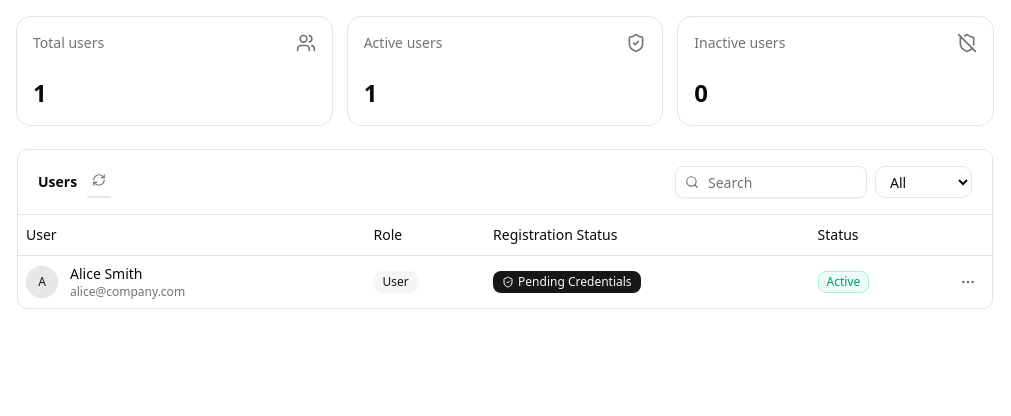
it: UsersTable — pending-credentials row actions › hides Edit, Disable/Enable and Super Admin toggle for a user still completing registration
Click the button named "Actions for Alice": (968, 282) [952, 266, 984, 298]
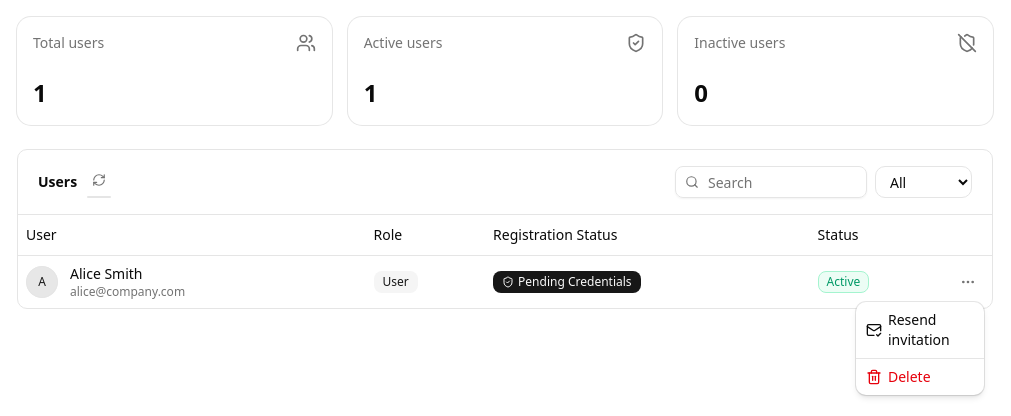
Expected: the menu item "Resend invitation" is shown, [866, 310, 950, 349]
Expected: the menu item "Delete" is shown, [866, 367, 931, 386]
